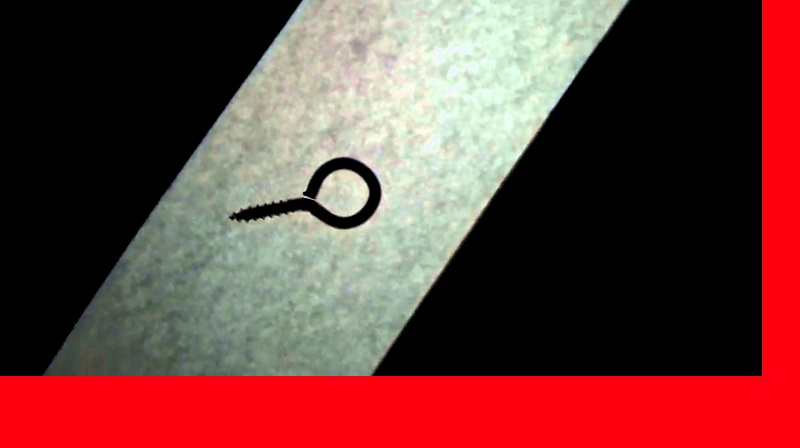O001: (227, 152, 385, 235)
